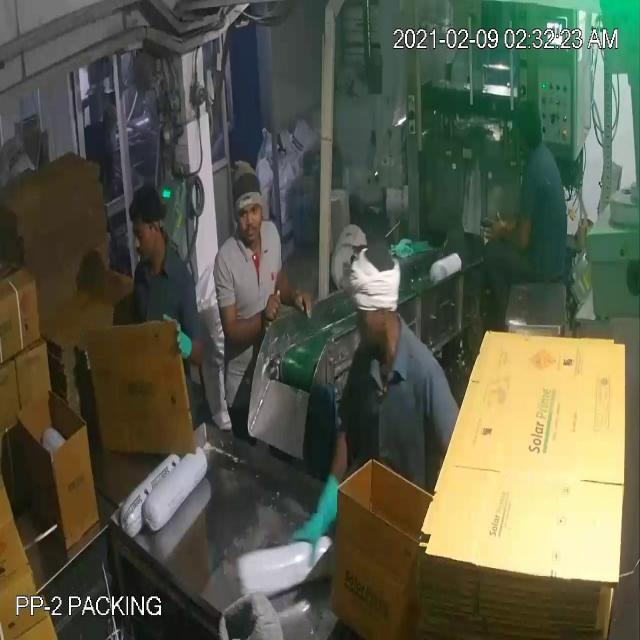No_Gloves: (49, 66, 510, 512)
